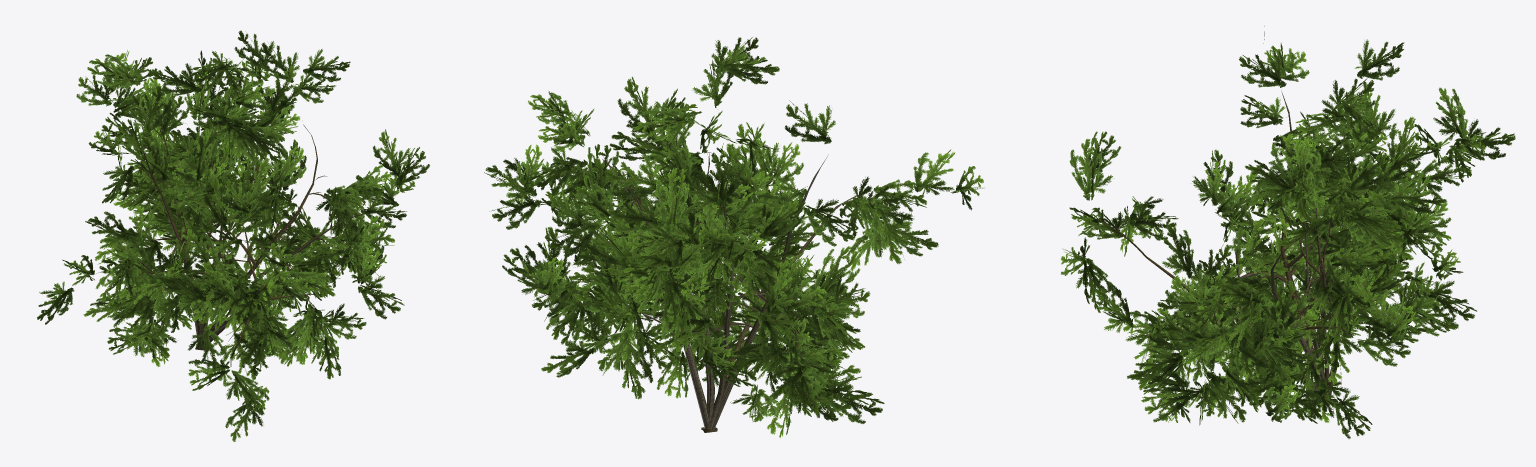
The model's file is tree__v02.glb.
3 renders of one model, left to right at view 1: azimuth 30°, elevation 25°; view 2: azimuth 150°, elevation 25°; view 3: azimuth 270°, elevation 25°, orthographic. The views are drawn at different scales.
Visible parts, largest first — view 1: Tree; view 2: Tree; view 3: Tree.
Part boxes in pixels (bbox=[...]): Tree: bbox=[37, 30, 429, 441]; Tree: bbox=[484, 37, 984, 437]; Tree: bbox=[1061, 26, 1515, 438].
Bounding box in the file's own units: 32.26 × 29.84 × 31.14.
Materials: 2 (2 with a texture image).
